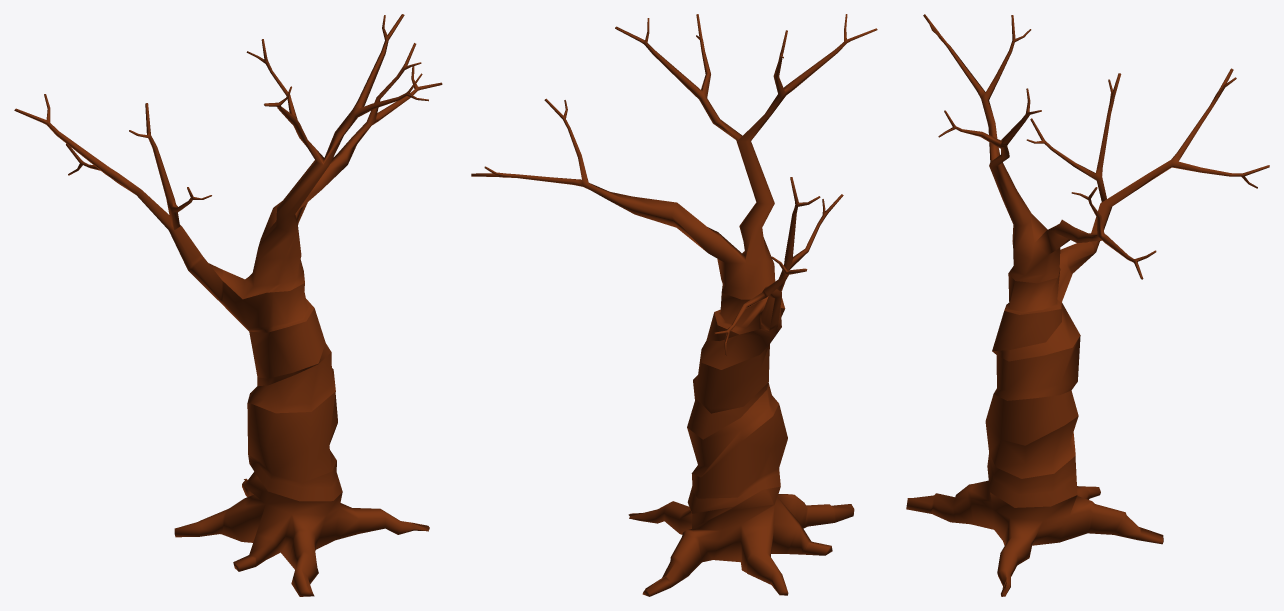
File: HWN20_Tree_01.glb
3 views of the same model, side by side, from view 1: azimuth 30°, elevation 25°; view 2: azimuth 150°, elevation 25°; view 3: azimuth 270°, elevation 25° (orthographic). The views are drawn at different scales.
Parts seen in each view (by area): view 1: HWN20_Tree_01; view 2: HWN20_Tree_01; view 3: HWN20_Tree_01.
Part boxes in pixels (<box>): HWN20_Tree_01: <box>14,14,442,596</box>; HWN20_Tree_01: <box>471,14,877,596</box>; HWN20_Tree_01: <box>906,14,1269,596</box>.
Bounding box in the file's own units: 3.7 × 4.89 × 3.18.
Materials: 1 (1 with a texture image).
